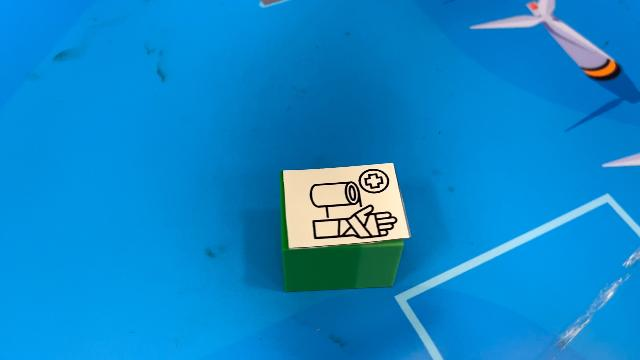bandage: (278, 161, 412, 293)
